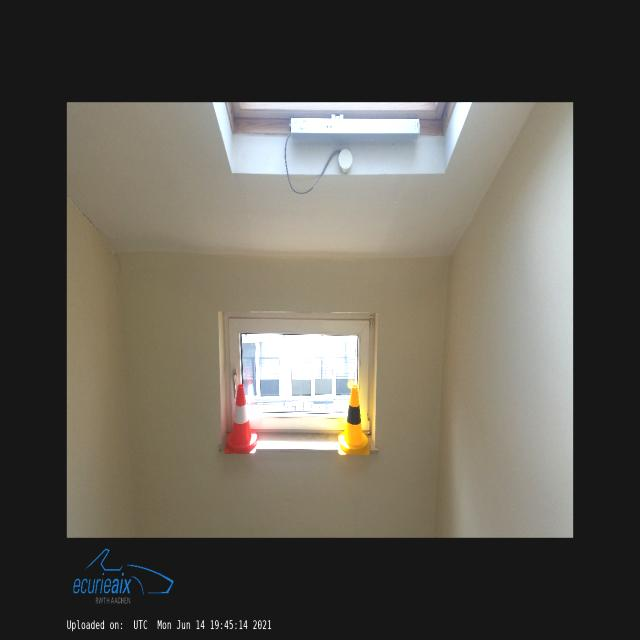orange_cone: (225, 384, 259, 454)
yellow_cone: (338, 386, 370, 456)
